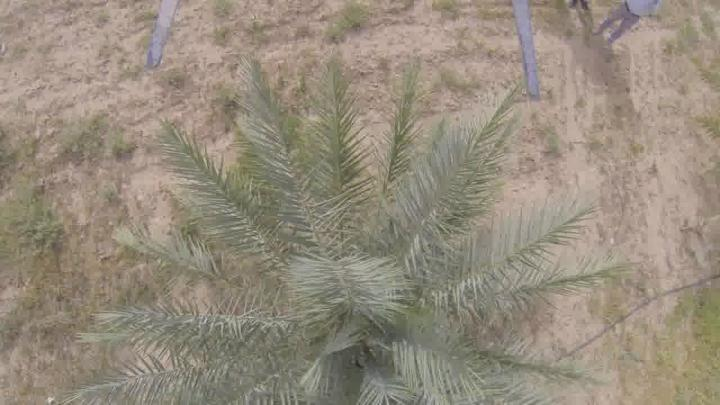Date-Palm-Crown: (228, 192, 474, 404)
